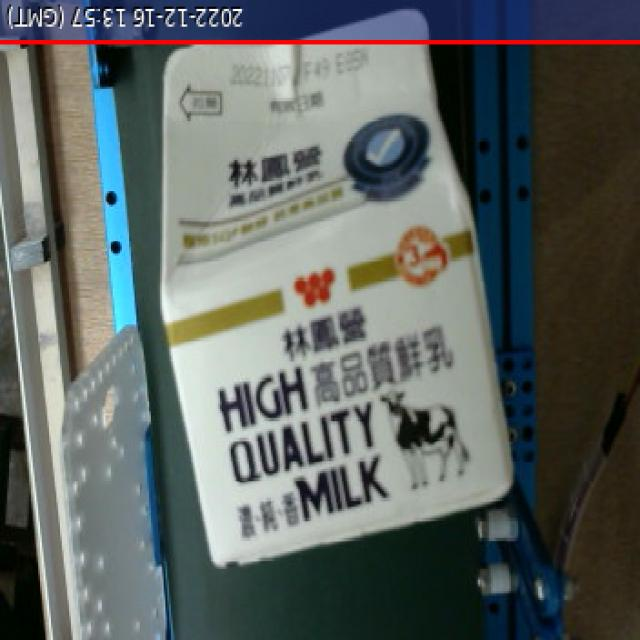non_white_jug: (136, 0, 535, 596)
